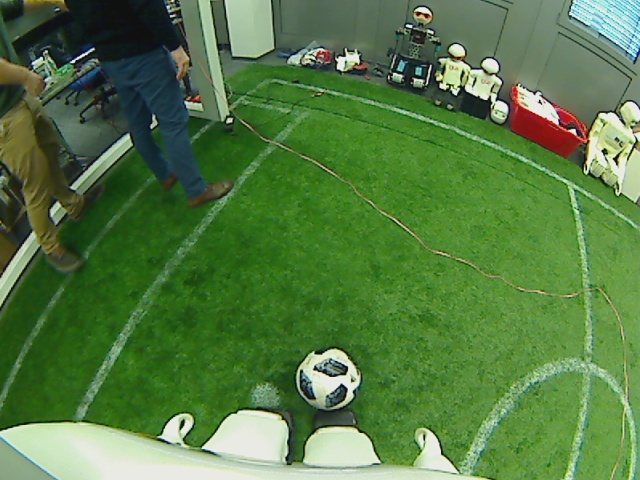ball: (292, 345, 362, 411)
